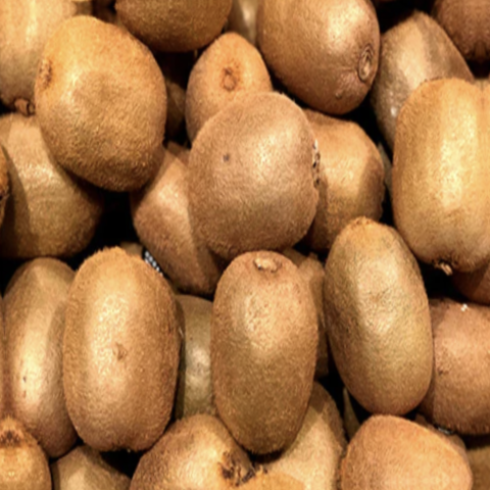kiwi: (179, 81, 354, 268), (53, 238, 193, 470), (19, 7, 178, 210), (303, 204, 457, 413), (202, 238, 330, 468), (375, 67, 490, 269)
